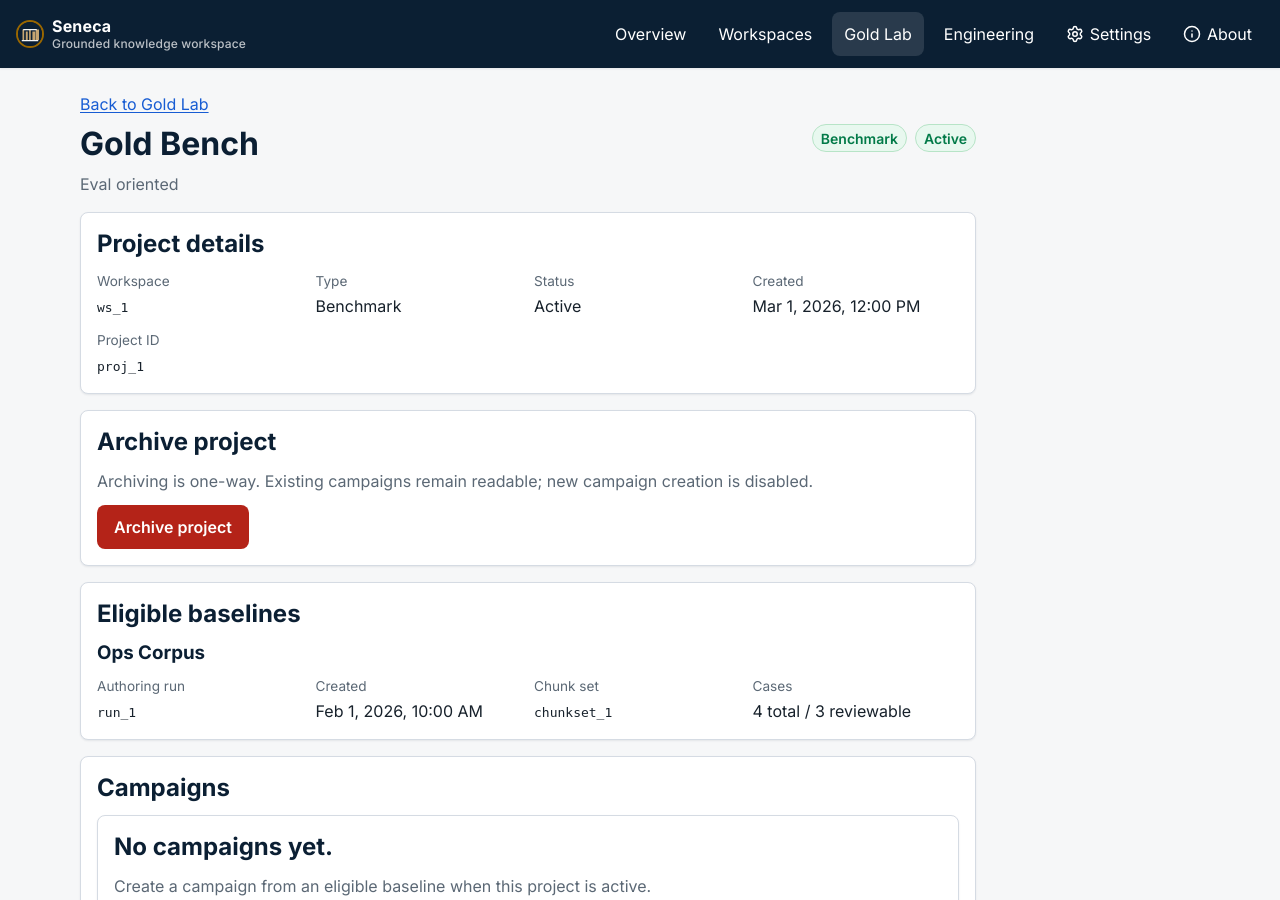
Test: 16G-I1 archive, baselines, campaign create › archives with confirmation and blocks new campaigns
The image size is (1280, 900).
Expected: the heading "Gold Bench" is shown, [80, 124, 259, 164]
Click the button "Archive project": [173, 527] box [97, 505, 249, 549]
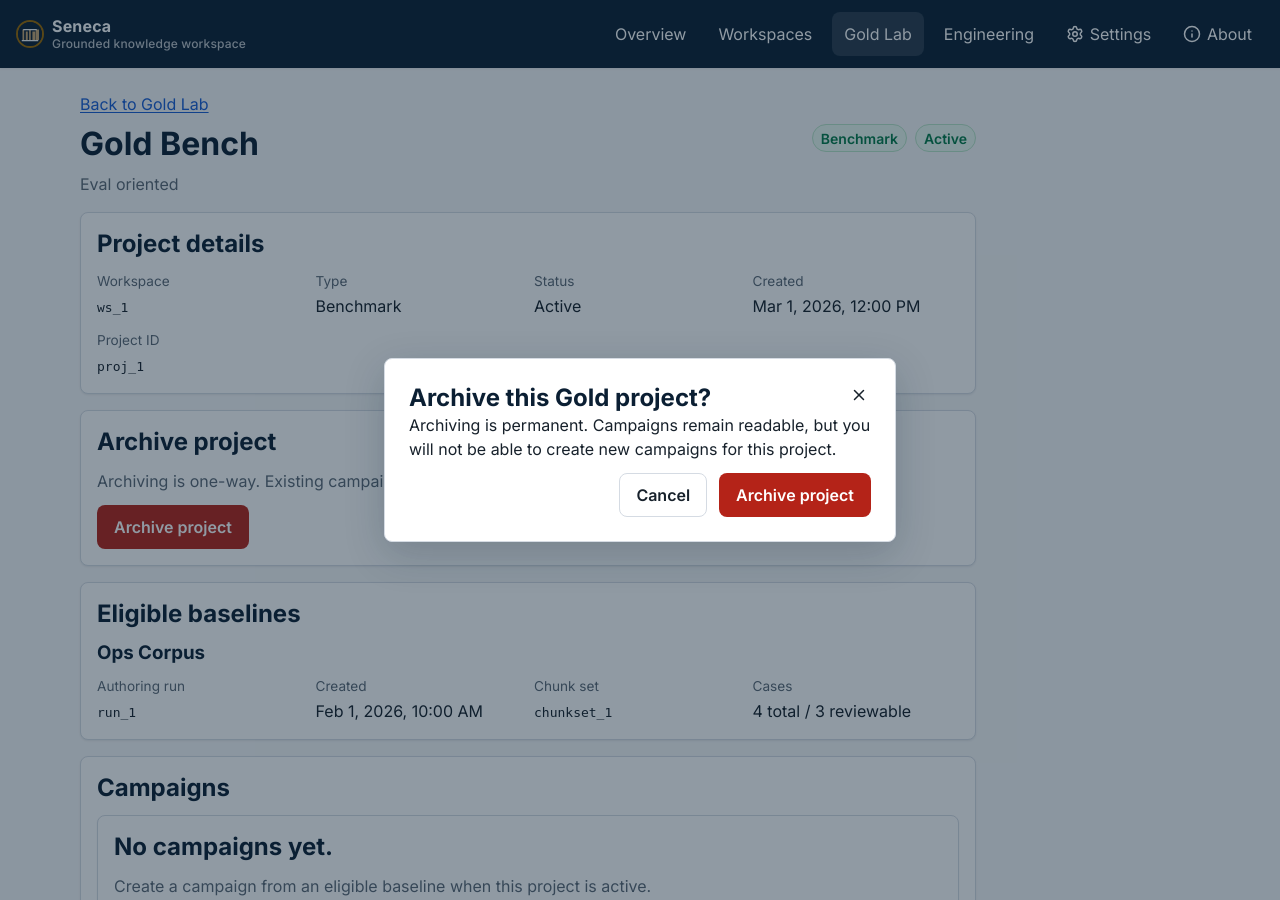
Click the button "Archive project": [795, 495] box [719, 473, 871, 517]
(page scrolled)
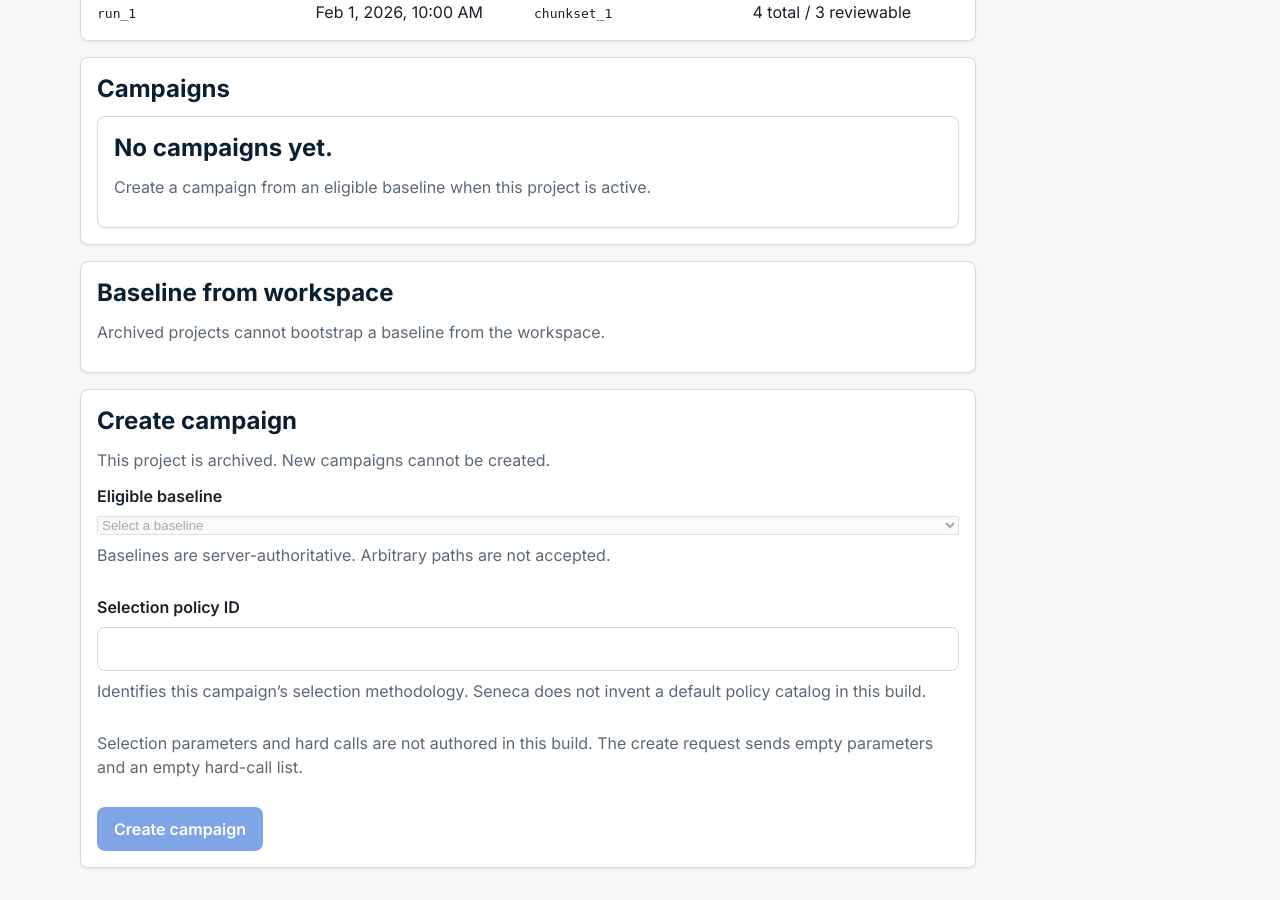
Now the text "This project is archived. New campaigns cannot be created." is shown, box [97, 450, 550, 470]
Now the button "Create campaign" is disabled, box [97, 807, 263, 851]
